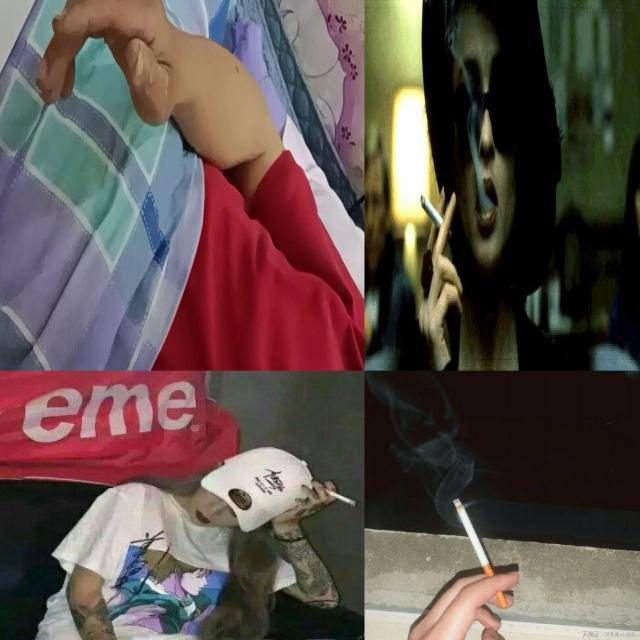smoking: (453, 498, 509, 608), (420, 191, 452, 242), (318, 486, 356, 506), (101, 0, 114, 45)
